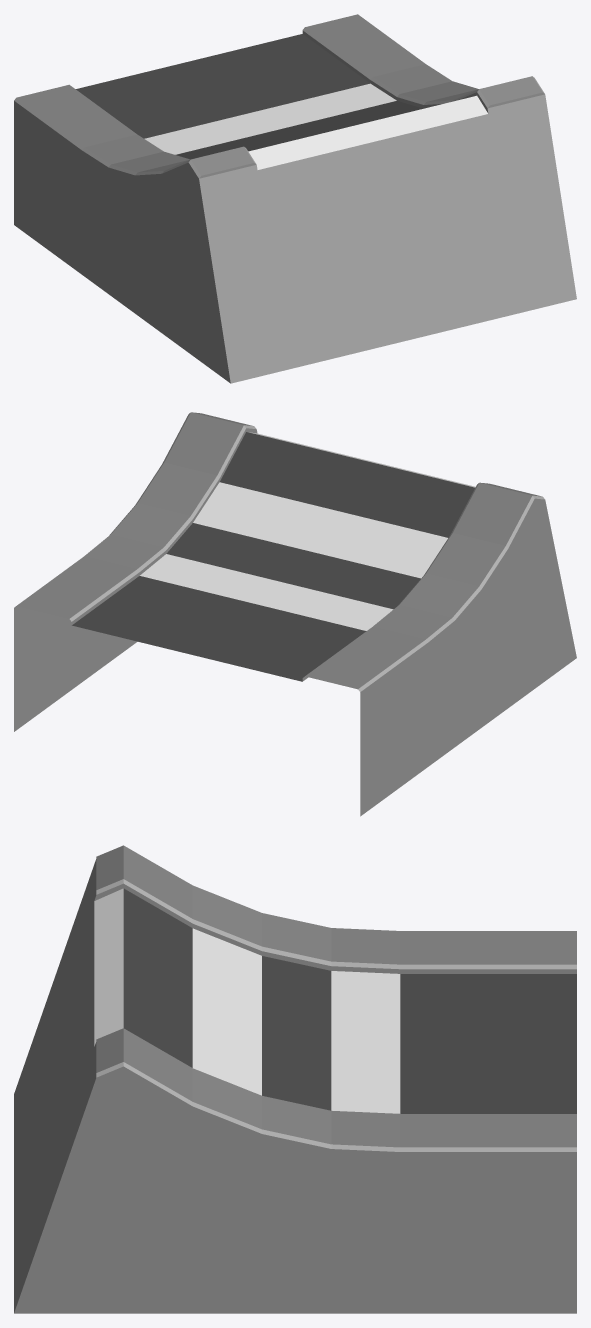
The model's file is highWayJump.glb.
3 views of the same model, one above another, from view 1: azimuth 30°, elevation 25°; view 2: azimuth 150°, elevation 25°; view 3: azimuth 270°, elevation 25° (orthographic). The views are drawn at different scales.
Visible parts, largest first — view 1: Road_Jump_mesh; view 2: Road_Jump_mesh; view 3: Road_Jump_mesh.
Boxes of the visible parts, x1,y1,x2,y2 form: Road_Jump_mesh: (14,14,576,383); Road_Jump_mesh: (14,412,576,816); Road_Jump_mesh: (14,845,576,1313).
Bounding box in the file's own units: 15 × 7.98 × 16.27.
Materials: 1 (1 with a texture image).
